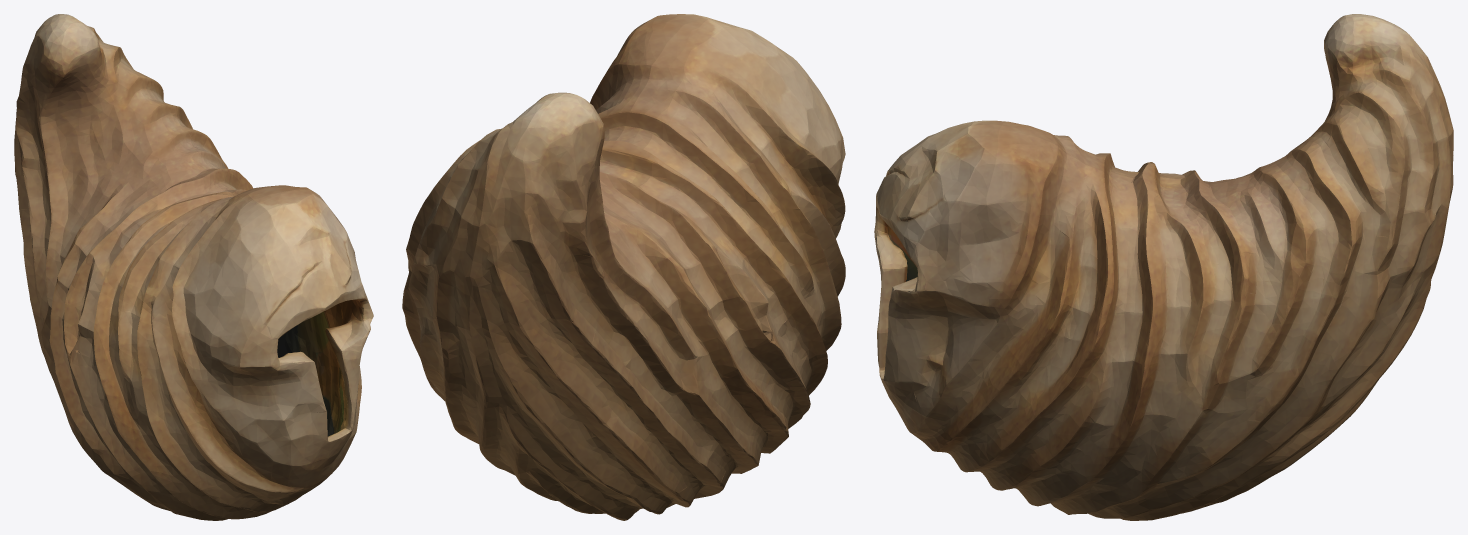
3 renders of one model, left to right at view 1: azimuth 30°, elevation 25°; view 2: azimuth 150°, elevation 25°; view 3: azimuth 270°, elevation 25°, orthographic. The views are drawn at different scales.
Visible parts, largest first — view 1: world; view 2: world; view 3: world.
Boxes of the visible parts, left/top/right/bottom form: world: left=14, top=14, right=373, bottom=520; world: left=402, top=14, right=845, bottom=520; world: left=874, top=14, right=1453, bottom=520.
Bounding box in the file's own units: 0.5706 × 0.9067 × 0.9987.
Materials: 1 (1 with a texture image).
